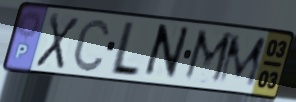C: (70, 16, 112, 74)
L: (106, 20, 143, 80)
M: (180, 26, 236, 88), (215, 34, 269, 89)
N: (139, 22, 193, 82)
X: (33, 11, 82, 72)
